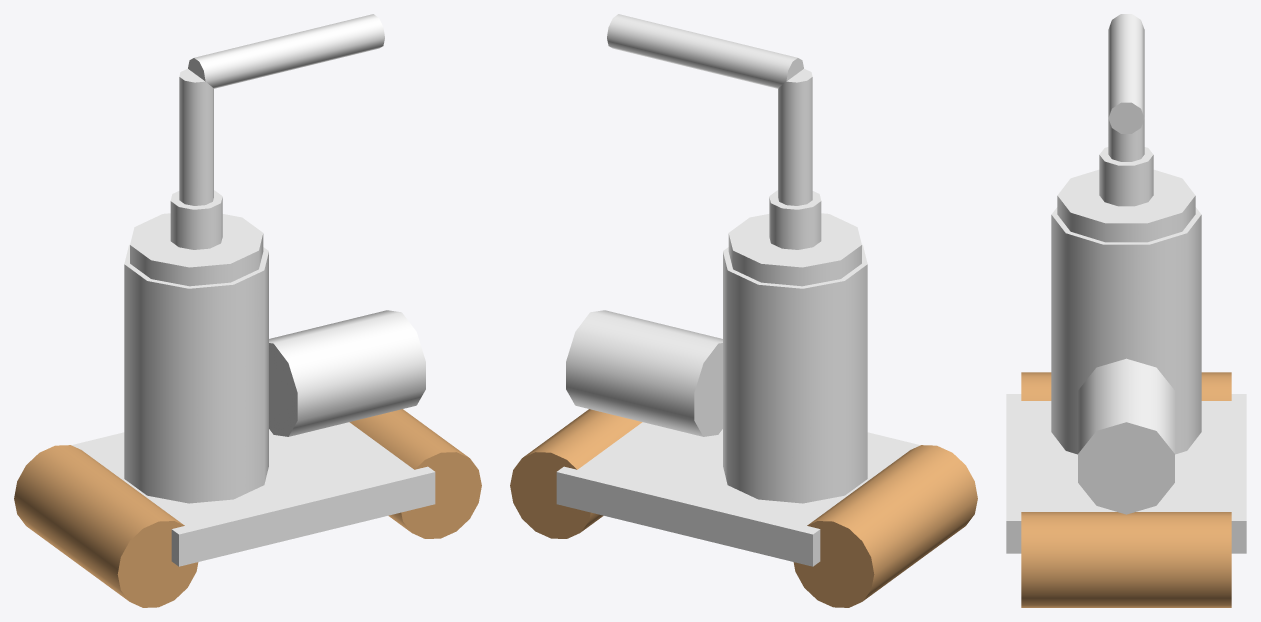
The picture shows the model from 3 angles, left to right: view 1: azimuth 30°, elevation 25°; view 2: azimuth 150°, elevation 25°; view 3: azimuth 270°, elevation 25°; orthographic projection.
Visible parts, largest first — view 1: part002, visualRoller (×2), part001, part005, part007, part003, part006, part004; view 2: part002, visualRoller (×2), part001, part005, part007, part003, part006, part004; view 3: part002, visualRoller (×2), part001, part005, part003, part007, part004, part006.
Boxes of the visible parts, <box> form: part002: <box>124,244,268,503</box>; visualRoller (×2): <box>14,409,481,607</box>; part001: <box>71,422,435,566</box>; part005: <box>269,310,425,436</box>; part007: <box>188,14,384,88</box>; part003: <box>130,213,263,286</box>; part006: <box>179,68,213,205</box>; part004: <box>170,190,222,249</box>; part002: <box>723,244,867,503</box>; visualRoller (×2): <box>510,409,977,607</box>; part001: <box>556,422,920,566</box>; part005: <box>566,310,722,436</box>; part007: <box>607,14,803,88</box>; part003: <box>728,213,861,286</box>; part006: <box>778,68,812,205</box>; part004: <box>769,190,821,249</box>; part002: <box>1051,207,1201,454</box>; visualRoller (×2): <box>1021,372,1231,607</box>; part001: <box>1006,394,1246,553</box>; part005: <box>1078,358,1174,514</box>; part003: <box>1057,169,1195,242</box>; part007: <box>1108,14,1144,133</box>; part004: <box>1099,147,1153,206</box>; part006: <box>1108,118,1144,161</box>.
Bounding box in the file's own units: 1.42 × 1.82 × 0.8.
